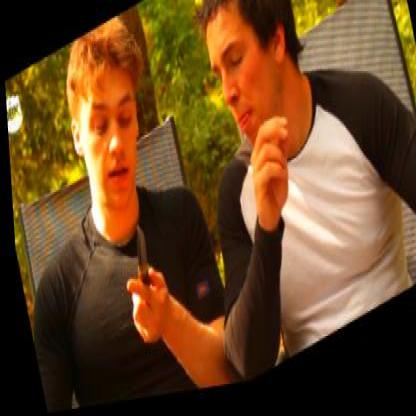knife: (106, 210, 170, 343)
